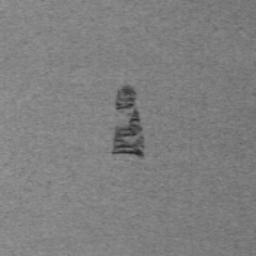Secondary rust skin: (110, 84, 145, 158)
